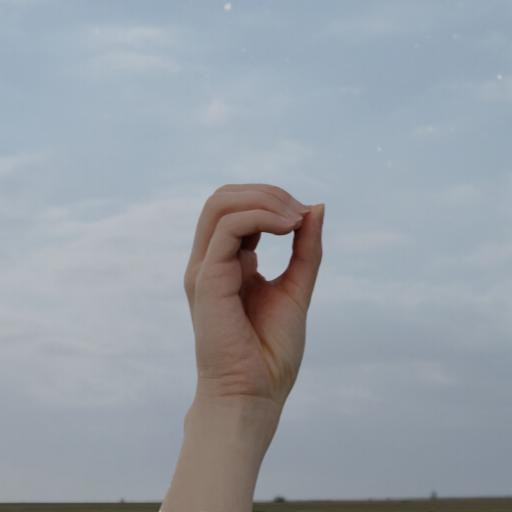O: (179, 180, 333, 410)
